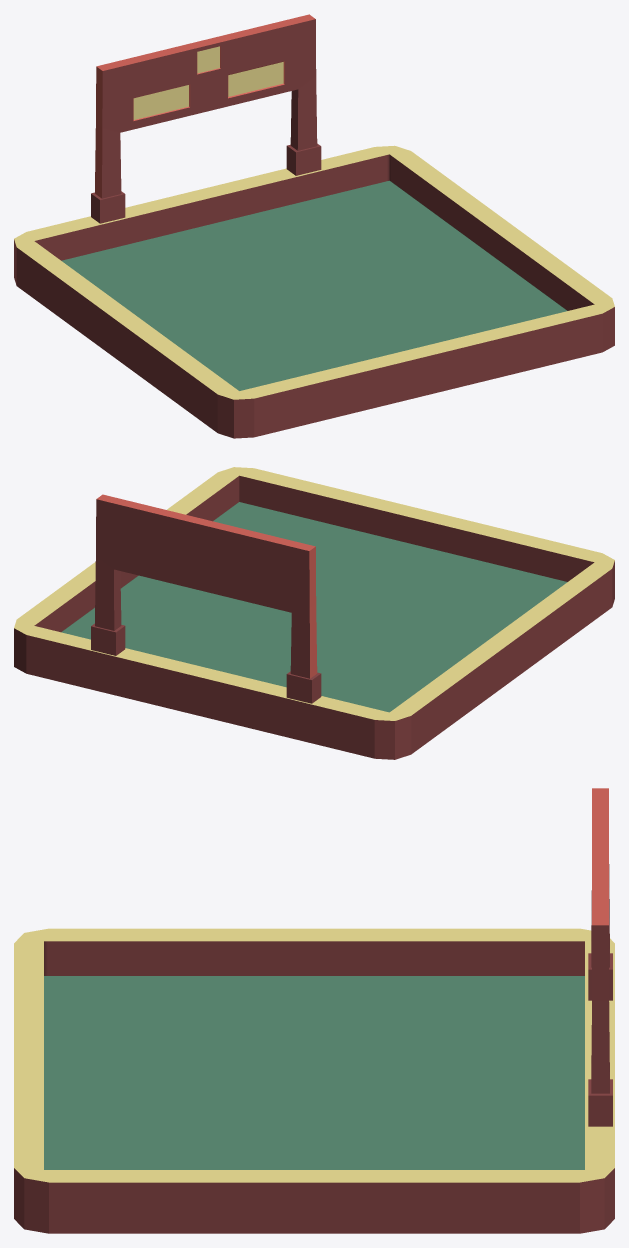
Rendered from Playground.fbx.
3 renders of one model, top to bottom at view 1: azimuth 30°, elevation 25°; view 2: azimuth 150°, elevation 25°; view 3: azimuth 270°, elevation 25°, orthographic. The views are drawn at different scales.
Parts seen in each view (by area): view 1: playground; view 2: playground; view 3: playground.
Part boxes in pixels (left/top/right/bottom): playground: left=14, top=14, right=614, bottom=438; playground: left=14, top=467, right=614, bottom=759; playground: left=14, top=788, right=614, bottom=1233.
Size of the model in its own units: 982 by 451 by 982.
1 material, 1 textured.
